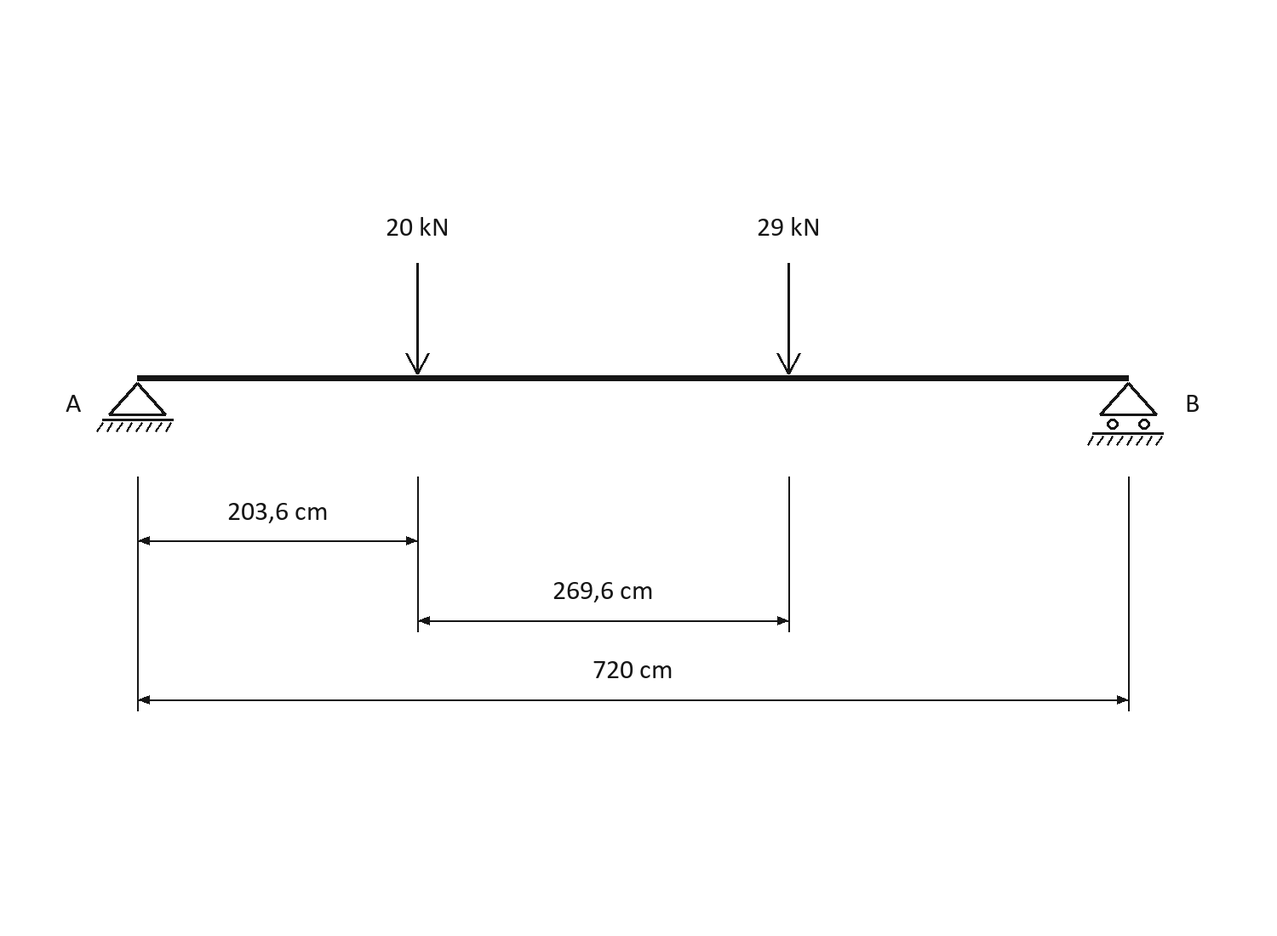pin_support: (96, 382, 174, 432)
point_load: (405, 263, 430, 374), (776, 263, 801, 374)
roller_support: (1087, 382, 1164, 446)
